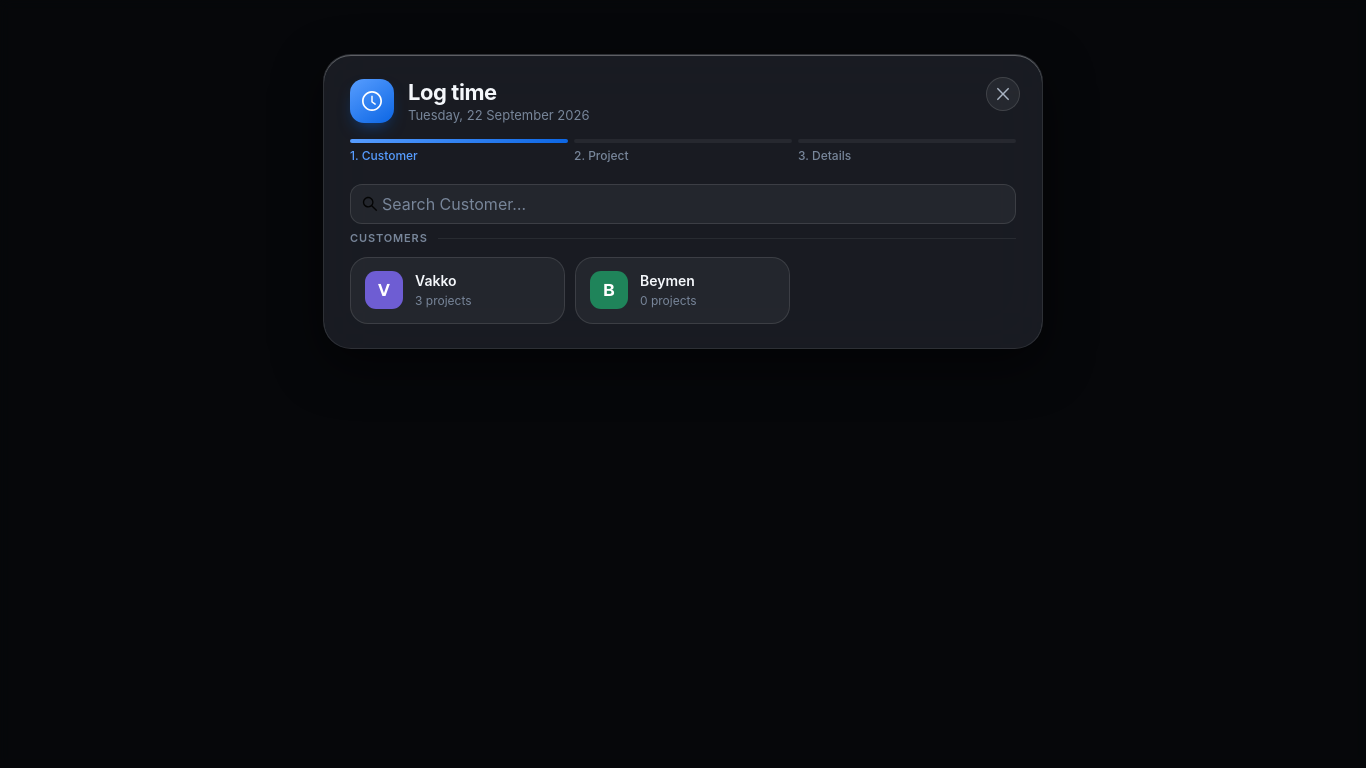
efor girisi: projeler ture gore › turlu projeler alt basliklar altinda, tursuzler en sonda
The image size is (1366, 768).
What coordinates should you click on to do the following:
click the button "V Vakko 3 projects"
I would click on:
 (458, 291)
Its box is [350,258,565,324].
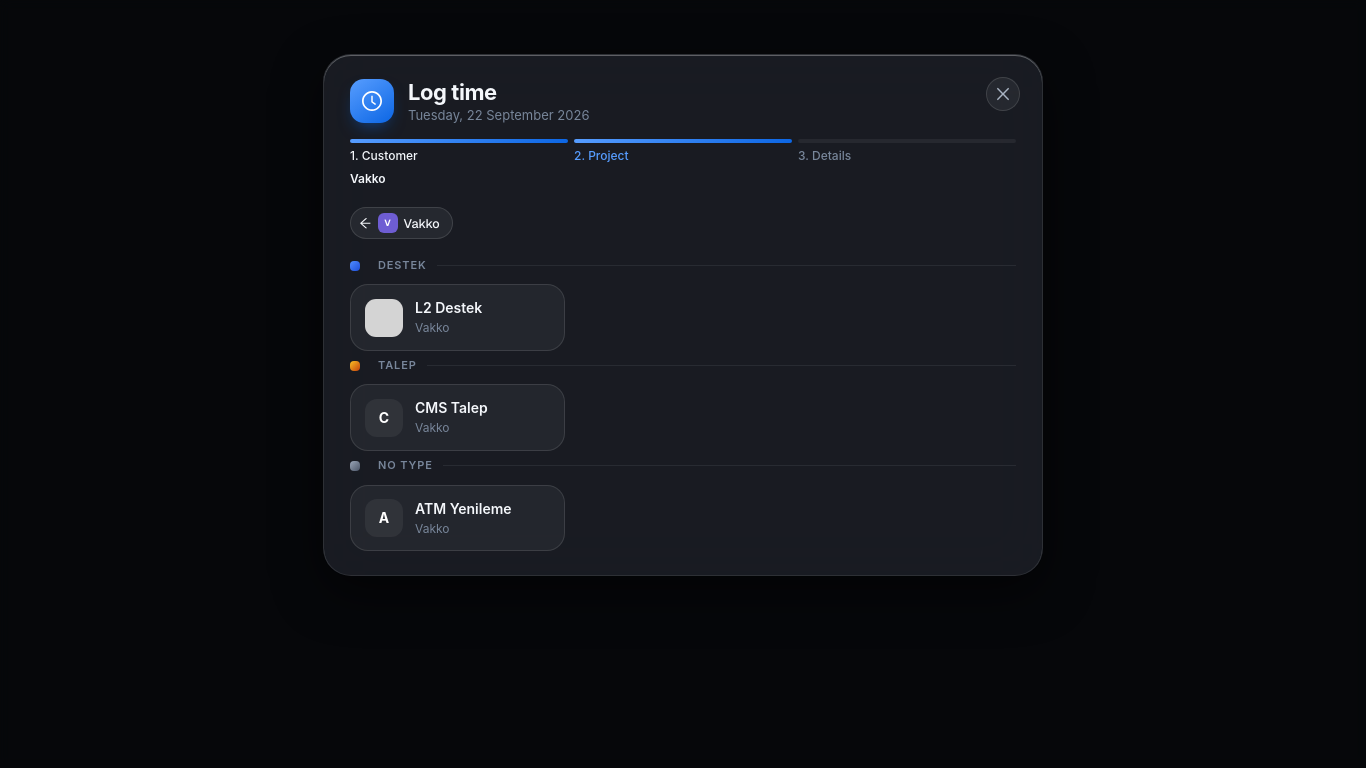
Expected: the number of elements with test id "log-time-type-group" is 3, [350,258,565,351]; [350,358,565,451]; [350,458,565,551]
Expected: the button "L2 Destek Vakko" is shown, [350,284,565,351]
Expected: the element with test id "log-time-type-group" shows "Destek", [378,258,427,272]
